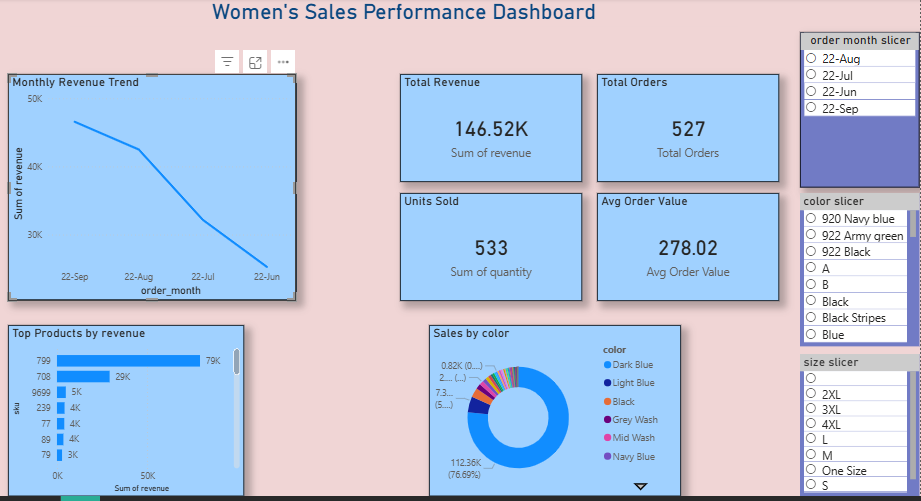

The dashboard page shown, as its layout file describes it:
{"tool":"powerbi","page":{"name":"Page 1","canvas":[1280,720],"ordinal":0},"visuals":[{"type":"lineChart","title":"Monthy Revenue Trend","fields":{"Category":["orders.order_month"],"Y":["Sum(orders.revenue)"]},"box":[13.2,133.7,401.1,314.4],"z":0},{"type":"clusteredBarChart","title":"Top Products by revenue","fields":{"Category":["orders.sku"],"Y":["Sum(orders.revenue)"]},"box":[13.2,482,327.7,238],"z":1000},{"type":"card","title":"Total Revenue","fields":{"Values":["Sum(orders.revenue)"]},"box":[558.4,133.7,252.7,149.9],"z":2000},{"type":"card","title":"Total Orders","fields":{"Values":["orders.Total Orders"]},"box":[831.7,133.7,252.7,149.9],"z":3000},{"type":"card","title":"Units Sold","fields":{"Values":["Sum(orders.quantity)"]},"box":[558.4,298.3,252.7,149.9],"z":4000},{"type":"card","title":"Avg Order Value","fields":{"Values":["orders.Avg Order Value"]},"box":[831.7,298.3,252.7,149.9],"z":5000},{"type":"donutChart","title":"Sales by color","fields":{"Category":["orders.color"],"Y":["Sum(orders.revenue)"]},"box":[598,482,349.7,238],"z":6000},{"type":"listSlicer","title":"order month slicer","fields":{"Values":["orders.order_month"]},"box":[1113.8,74.9,166,216],"z":7000},{"type":"textbox","title":" Women''s Sales Performance Dashboard","box":[99.9,29.4,927.2,38.2],"z":7001},{"type":"listSlicer","title":"color slicer","fields":{"Values":["orders.color"]},"box":[1113.8,298.3,166,213.1],"z":7002},{"type":"listSlicer","title":"size slicer","fields":{"Values":["orders.size"]},"box":[1113.8,521.6,166,198.4],"z":7003}]}

Visuals, with their boxes in screenshot pixels (x1, y1, x2, y2):
"Monthy Revenue Trend" lineChart: locate(12, 74, 297, 297)
"Top Products by revenue" clusteredBarChart: locate(12, 322, 245, 491)
"Total Revenue" card: locate(400, 74, 580, 180)
"Total Orders" card: locate(594, 74, 774, 180)
"Units Sold" card: locate(400, 191, 580, 297)
"Avg Order Value" card: locate(594, 191, 774, 297)
"Sales by color" donutChart: locate(428, 322, 677, 491)
"order month slicer" listSlicer: locate(795, 32, 913, 185)
" Women''s Sales Performance Dashboard" textbox: locate(74, 0, 734, 27)
"color slicer" listSlicer: locate(795, 191, 913, 342)
"size slicer" listSlicer: locate(795, 350, 913, 491)
